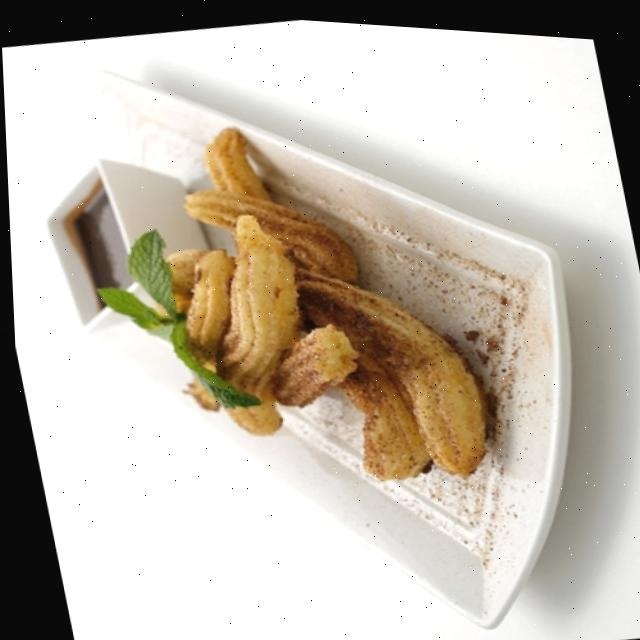炸货点心: (54, 58, 508, 547)
